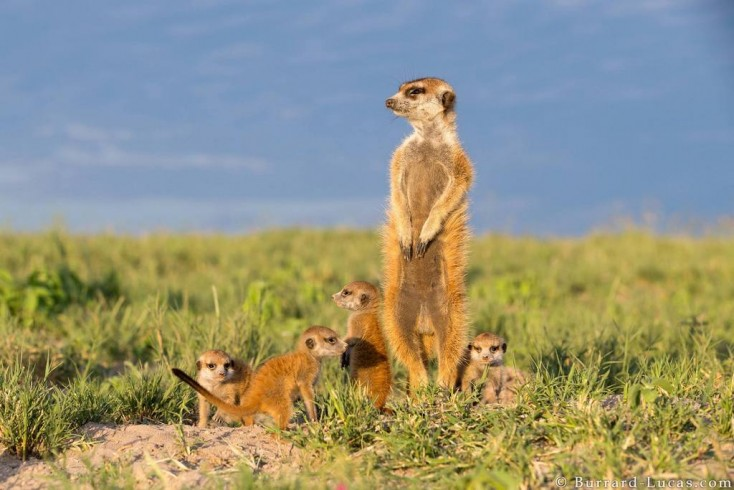meerkat: (363, 62, 506, 403)
